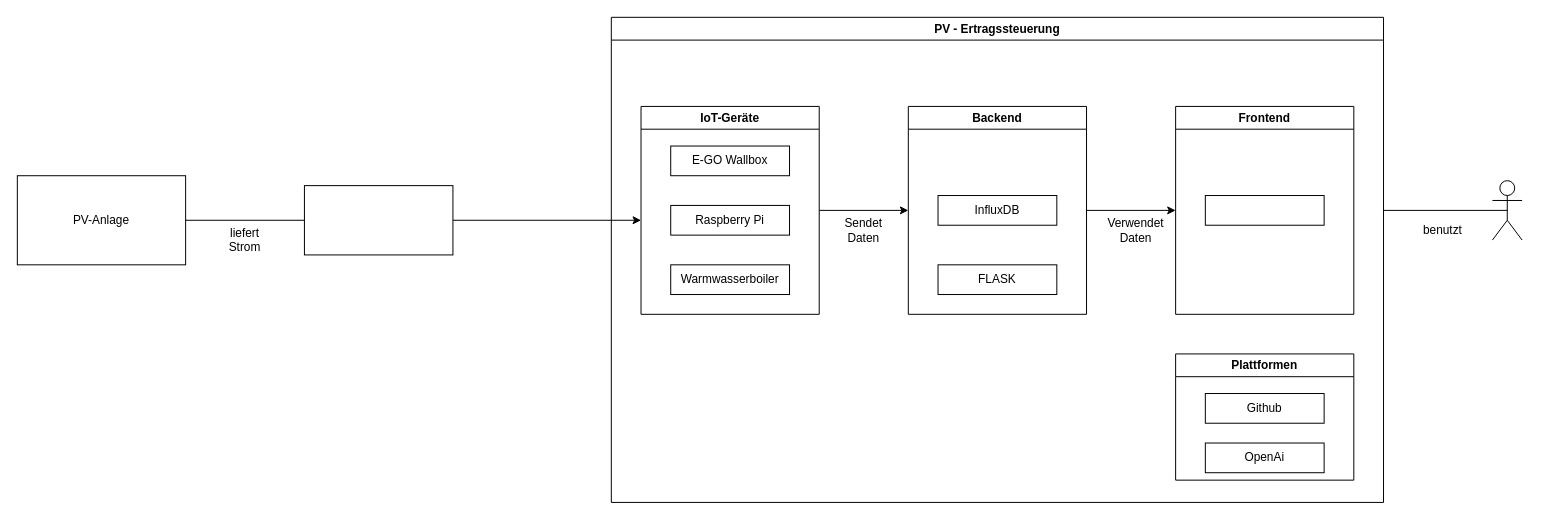
Some shapes in this 1558 by 520 pixel diagram are drawn without their labels. Each missing label, with the centre of its shape:
Auftraggeber: point 1506,210
REACT Native: point 1264,210
Wechselrichter / Speicher (Batterie): point 378,220
